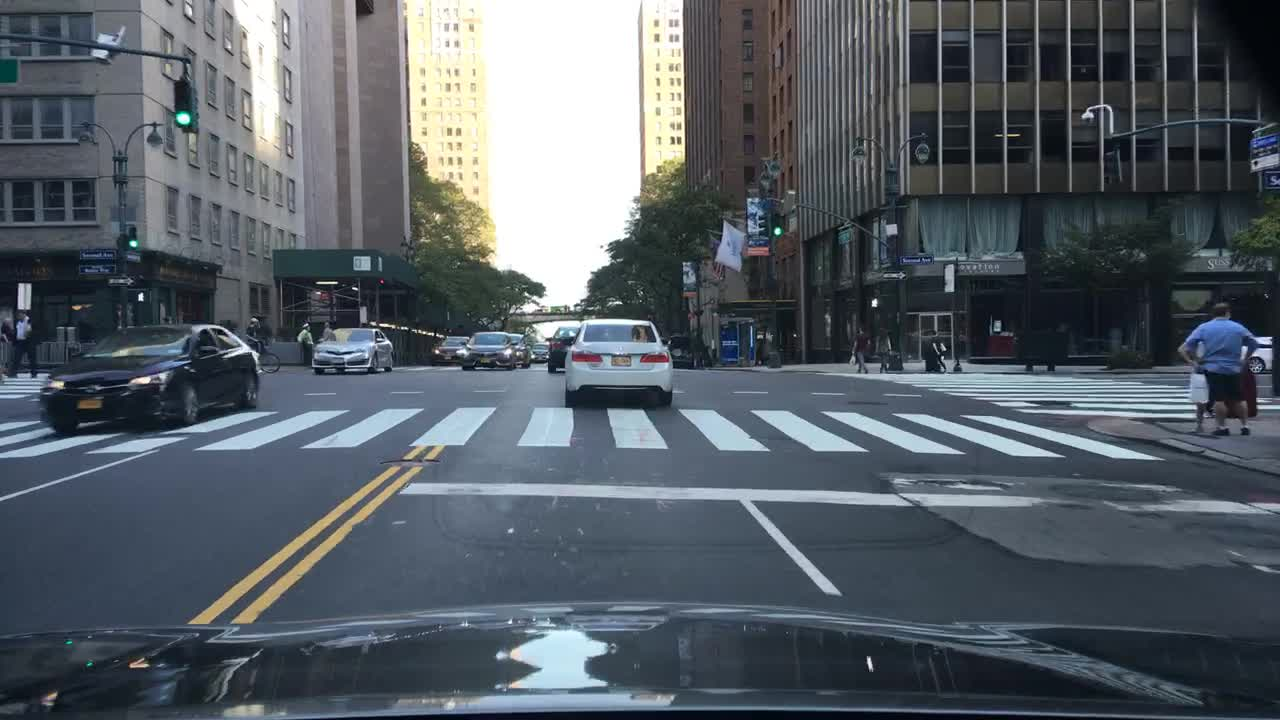bike: (252, 339, 281, 373)
car: (37, 322, 260, 434), (562, 319, 673, 404), (310, 327, 394, 375), (461, 332, 515, 371), (545, 327, 579, 372), (1240, 336, 1273, 371), (433, 335, 469, 367), (666, 335, 693, 369), (508, 333, 531, 371), (530, 342, 549, 362)
person: (1177, 301, 1258, 436), (7, 311, 39, 375), (927, 328, 949, 373), (851, 327, 871, 373), (876, 327, 893, 373), (0, 318, 14, 372), (298, 322, 313, 366), (322, 321, 332, 341)
rider: (244, 317, 262, 354)
traffic light: (172, 80, 193, 126), (770, 212, 784, 239), (134, 289, 148, 305), (126, 228, 137, 248), (869, 298, 880, 310), (379, 277, 386, 286)
traffic sign: (77, 246, 116, 259), (75, 263, 116, 274), (898, 253, 935, 265), (17, 282, 31, 309), (103, 275, 134, 287), (943, 264, 955, 292), (882, 270, 908, 280), (836, 229, 853, 244), (127, 253, 142, 264), (359, 305, 368, 323), (885, 224, 898, 234)
